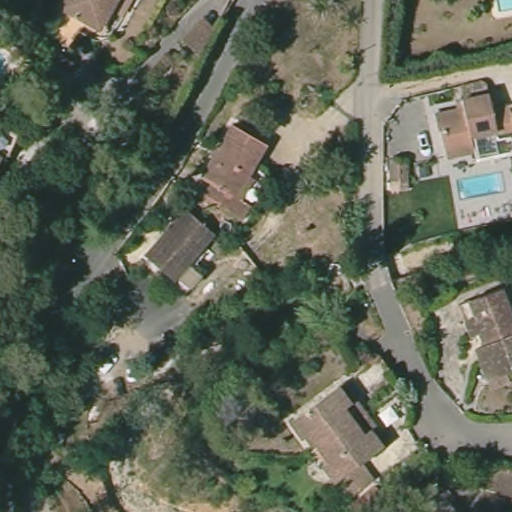pool: (455, 171, 507, 197), (492, 1, 511, 23)
